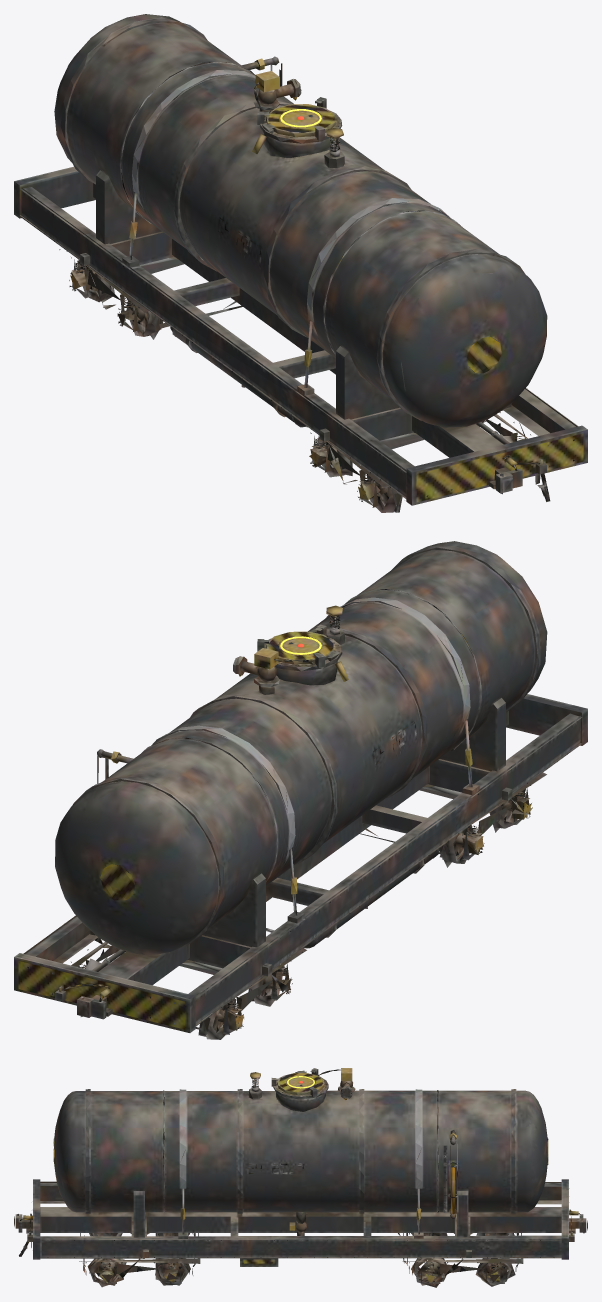
File: vagao_tanque.glb
3 views of the same model, one above another, from view 1: azimuth 30°, elevation 25°; view 2: azimuth 150°, elevation 25°; view 3: azimuth 270°, elevation 25° (orthographic). The views are drawn at different scales.
Parts seen in each view (by area): view 1: vagao_tanque_corpo, vagao_tanque_truque0, vagao_tanque_truque1; view 2: vagao_tanque_corpo, vagao_tanque_truque1, vagao_tanque_truque0; view 3: vagao_tanque_corpo, vagao_tanque_truque0, vagao_tanque_truque1.
Part boxes in pixels (left/top/right/bottom): vagao_tanque_corpo: left=14, top=14, right=587, bottom=505; vagao_tanque_truque0: left=299, top=412, right=530, bottom=512; vagao_tanque_truque1: left=59, top=249, right=242, bottom=339; vagao_tanque_corpo: left=14, top=541, right=587, bottom=1032; vagao_tanque_truque1: left=71, top=938, right=306, bottom=1039; vagao_tanque_truque0: left=359, top=772, right=546, bottom=867; vagao_tanque_corpo: left=14, top=1068, right=587, bottom=1266; vagao_tanque_truque0: left=79, top=1233, right=200, bottom=1287; vagao_tanque_truque1: left=402, top=1233, right=523, bottom=1287.
Size of the model in its own units: 0.77 by 1.14 by 3.02.
Materials: 3 (1 with a texture image).
